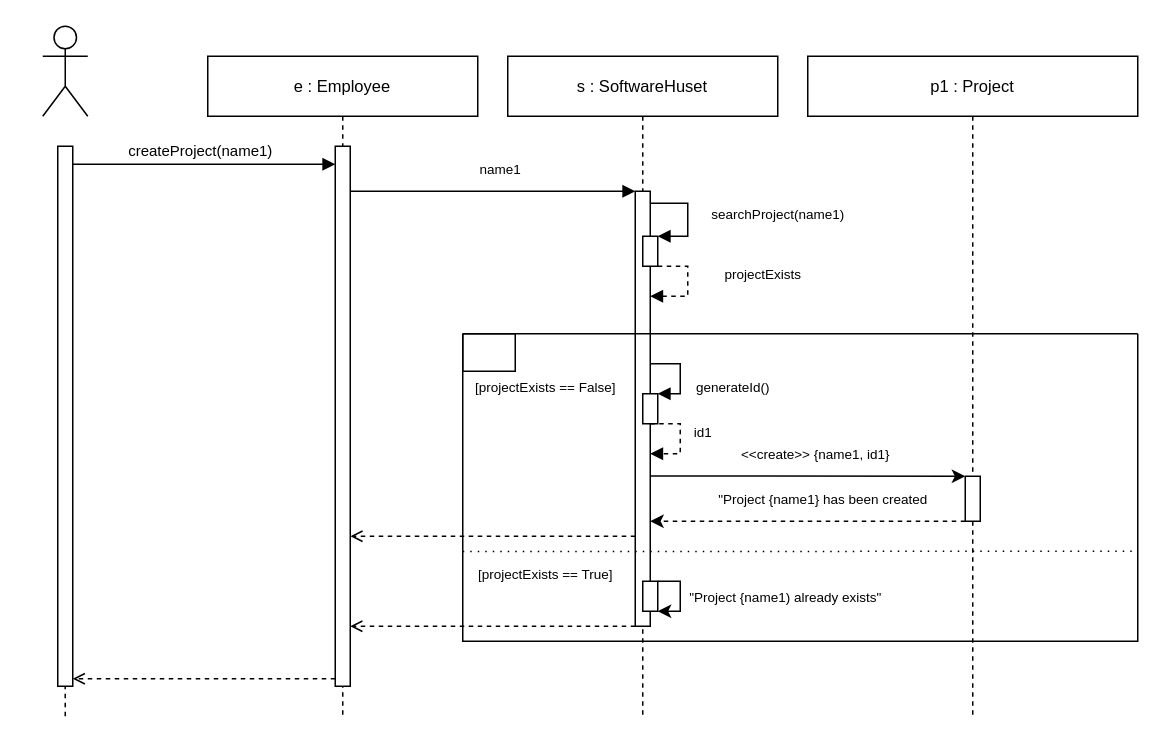
The diagram is 1166 pixels wide and 744 high, and some of its shapes have lost their labels. The shapes that lost their labels are listed below. From the top down, each one's centre as x and y in pixels, then its label:
At (x=64, y=70): "Employee".
At (x=488, y=351): "Alt".
